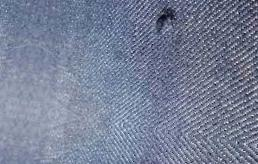knot: (153, 7, 179, 34)
